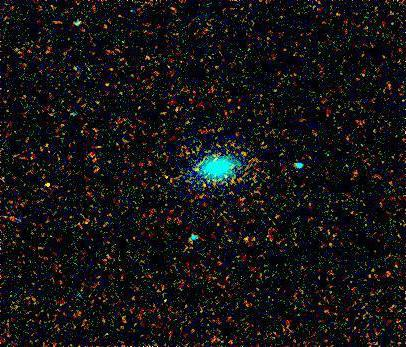star: (31, 172, 61, 202)
